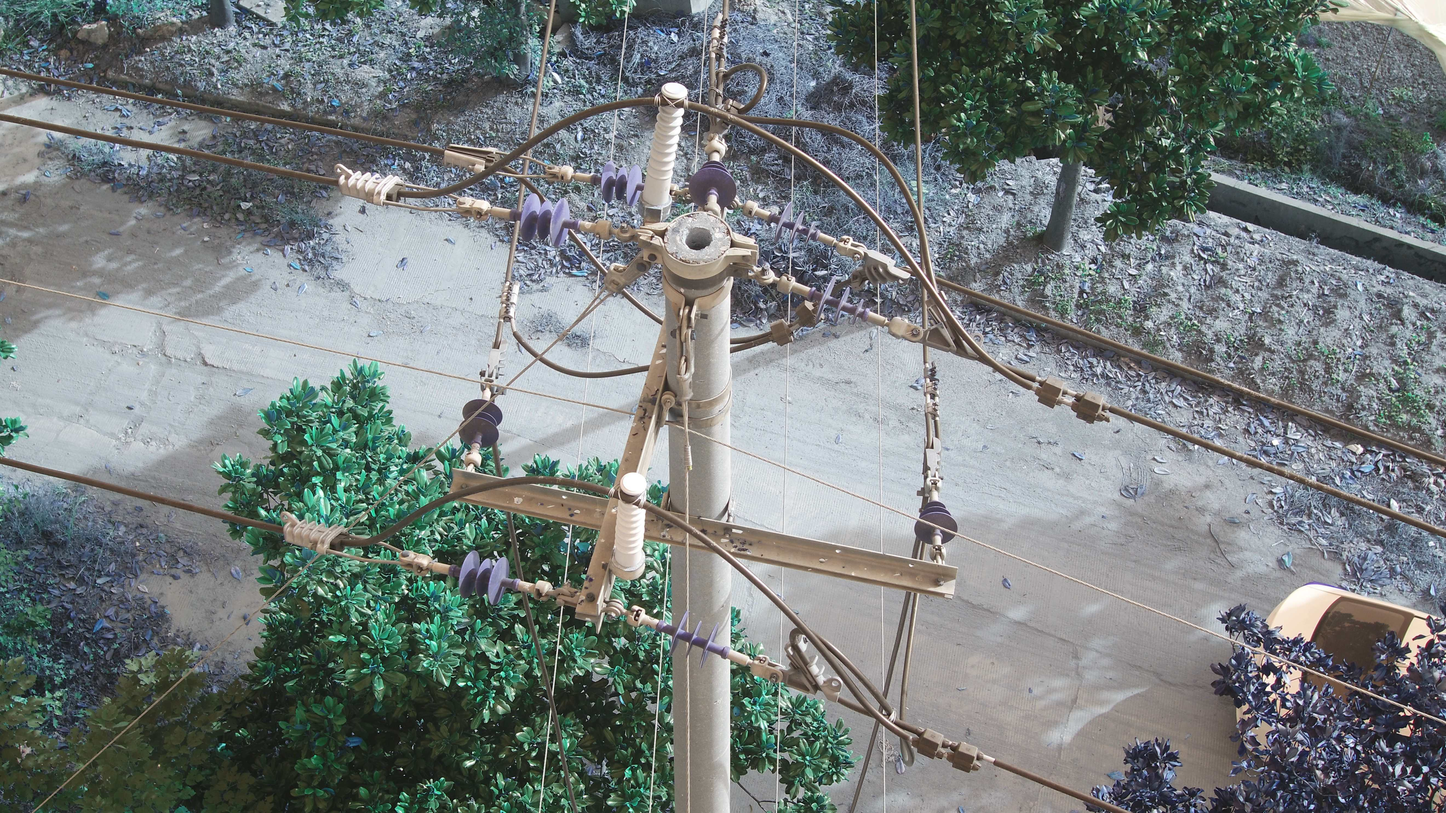severe_soiling_no_discharge_whole: (688, 169, 736, 208)
